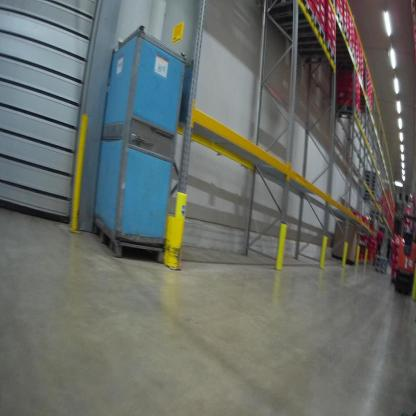pallet: (91, 220, 168, 263), (278, 17, 326, 49), (263, 0, 315, 26), (295, 41, 337, 63), (335, 104, 363, 120), (335, 46, 355, 62), (334, 7, 346, 32), (335, 26, 349, 46), (375, 255, 388, 266), (373, 268, 387, 278), (375, 262, 387, 271)
pallet_truck: (389, 194, 414, 300)
